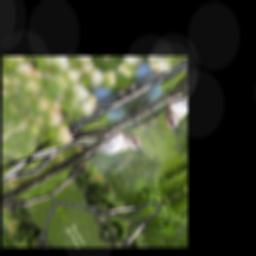Cuckoo: (29, 105, 149, 203)
